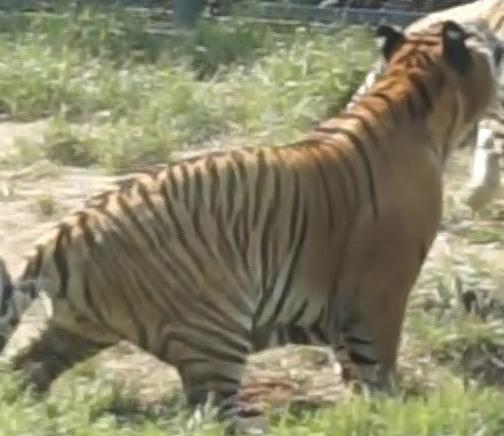tiger: (0, 18, 503, 414)
